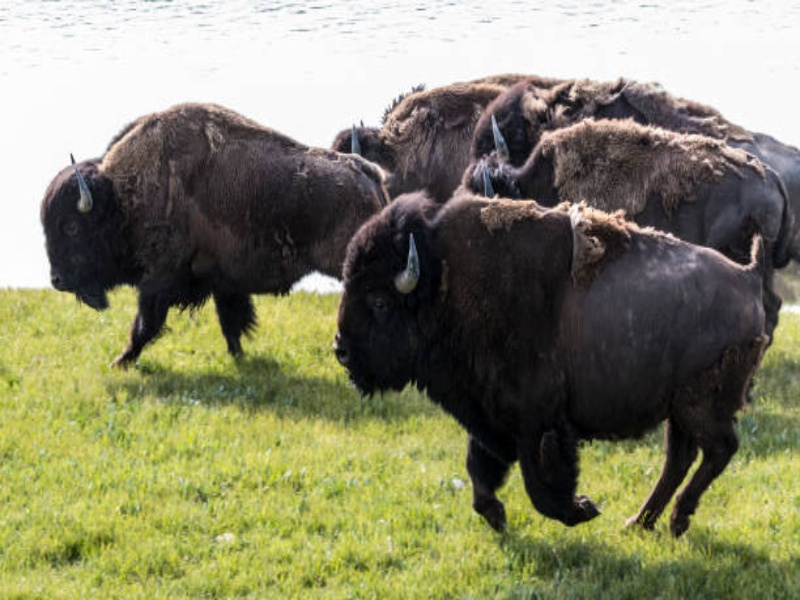buffalo: (39, 78, 788, 551)
